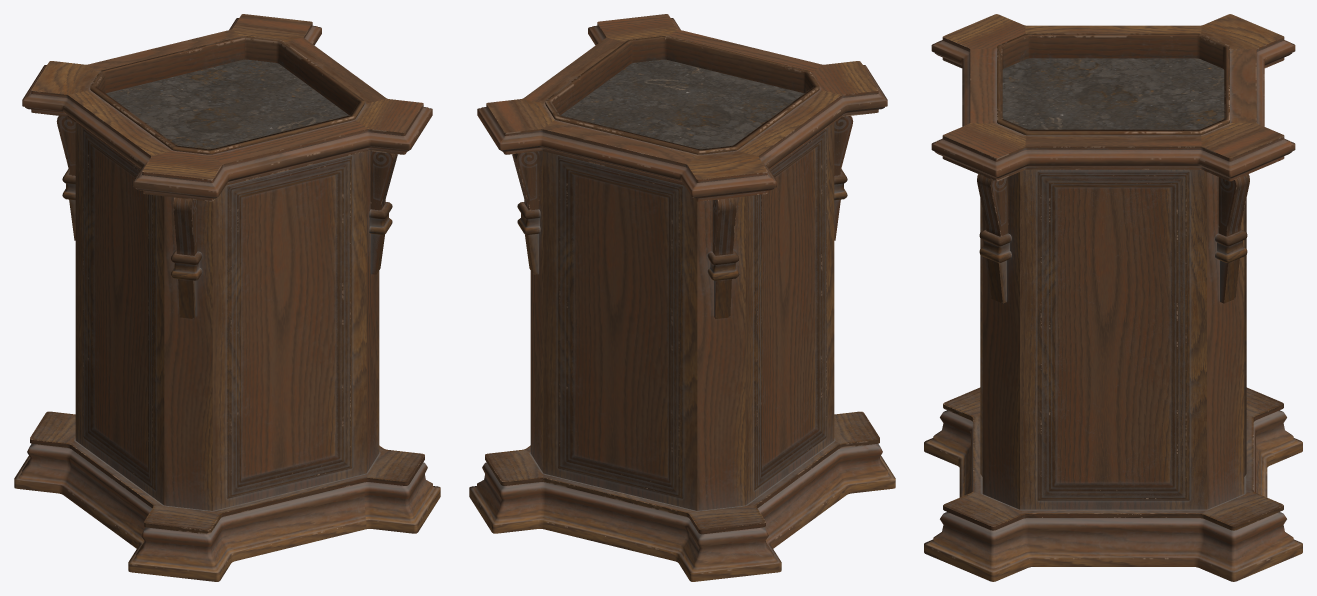
The model's file is SM_PlanterA.fbx.
3 renders of one model, left to right at view 1: azimuth 30°, elevation 25°; view 2: azimuth 150°, elevation 25°; view 3: azimuth 270°, elevation 25°, orthographic. The views are drawn at different scales.
Parts seen in each view (by area): view 1: SM_PlanterA_LOD0; view 2: SM_PlanterA_LOD0; view 3: SM_PlanterA_LOD0.
Boxes of the visible parts, x1,y1,x2,y2 form: SM_PlanterA_LOD0: (14,14,440,581); SM_PlanterA_LOD0: (469,14,895,581); SM_PlanterA_LOD0: (924,14,1302,581).
Bounding box in the file's own units: 66.05 × 66.05 × 80.6.
2 materials, 2 textured.
